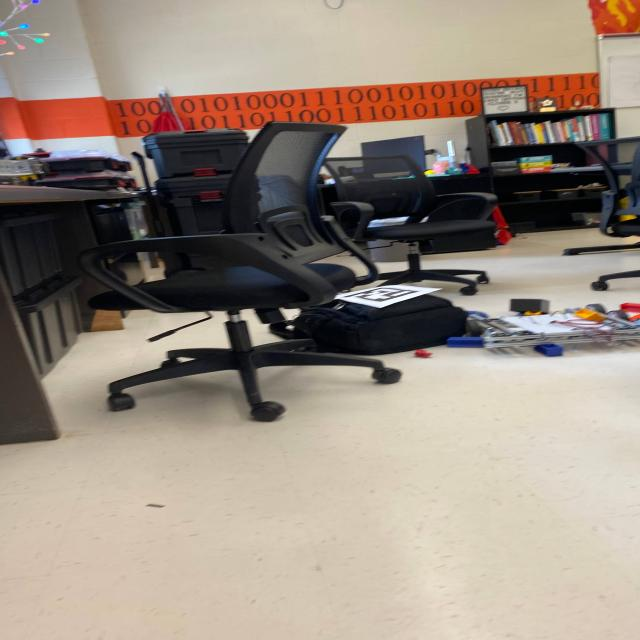blue-specimen: (447, 337, 483, 348), (538, 345, 562, 356)
red-specimen: (619, 303, 640, 313)
yellow-specimen: (573, 308, 605, 323)
